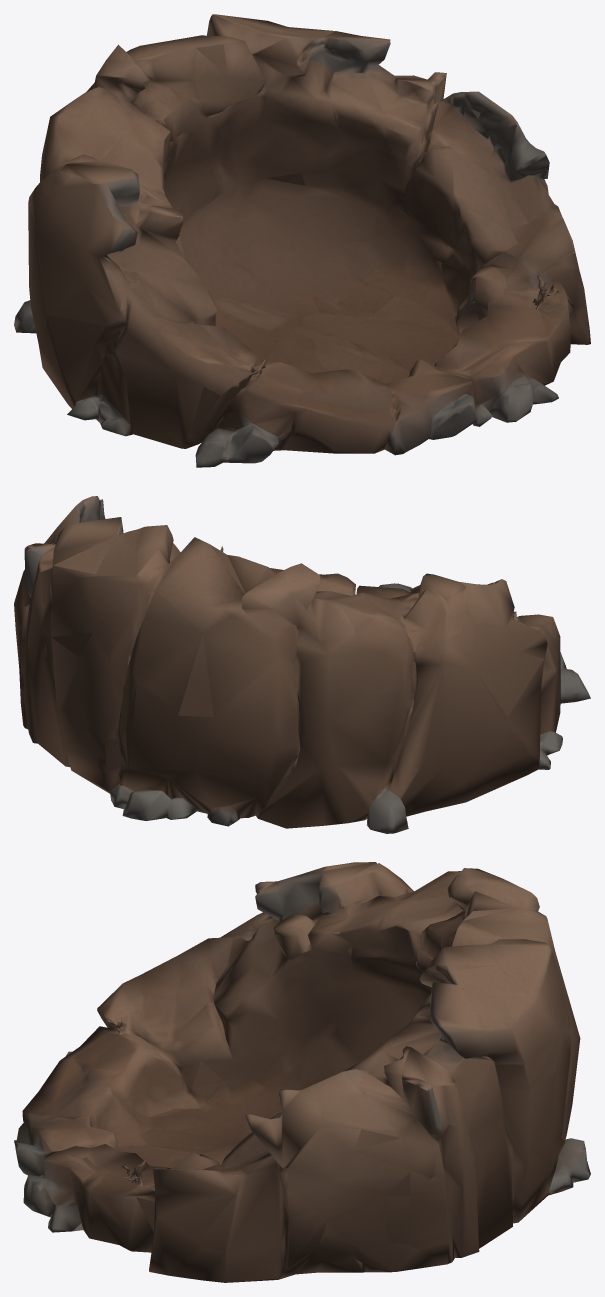
File: Meshy_AI_Make_a_hole_that_come_0823232922_texture.obj
The picture shows the model from 3 angles, top to bottom: view 1: azimuth 30°, elevation 25°; view 2: azimuth 150°, elevation 25°; view 3: azimuth 270°, elevation 25°; orthographic projection. The views are drawn at different scales.
Visible parts, largest first — view 1: Meshy_AI_Make_a_hole_that_come_0823232922_texture; view 2: Meshy_AI_Make_a_hole_that_come_0823232922_texture; view 3: Meshy_AI_Make_a_hole_that_come_0823232922_texture.
Part boxes in pixels (bbox=[...]): Meshy_AI_Make_a_hole_that_come_0823232922_texture: bbox=[14, 14, 590, 467]; Meshy_AI_Make_a_hole_that_come_0823232922_texture: bbox=[14, 496, 590, 833]; Meshy_AI_Make_a_hole_that_come_0823232922_texture: bbox=[14, 862, 590, 1282].
Size of the model in its own units: 1.9 by 0.8875 by 1.89.
1 material, 1 textured.
